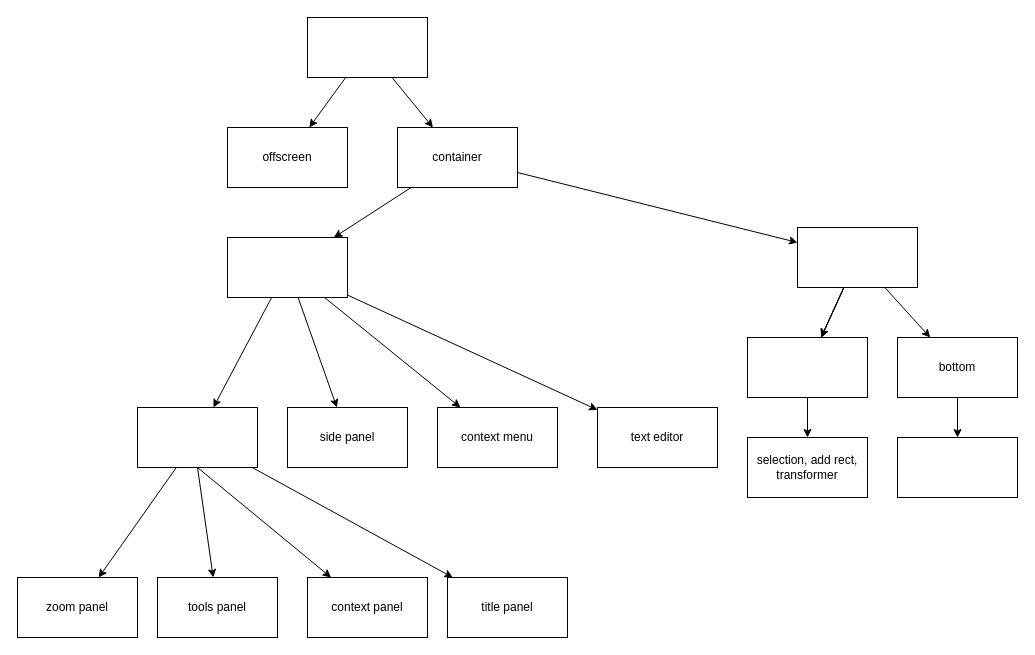
Image size: 1035x655. Some labels were removed from this diagram. Each missing label, with the box of its shape:
canvas: (796, 226, 918, 288)
items: (896, 436, 1018, 498)
overlays: (226, 236, 348, 298)
panels: (136, 406, 258, 468)
top: (746, 336, 868, 398)
window: (306, 16, 428, 78)
